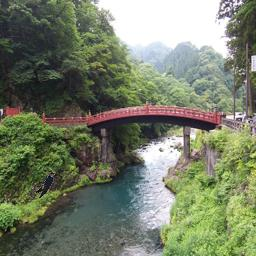Swallow: (29, 172, 55, 200)
